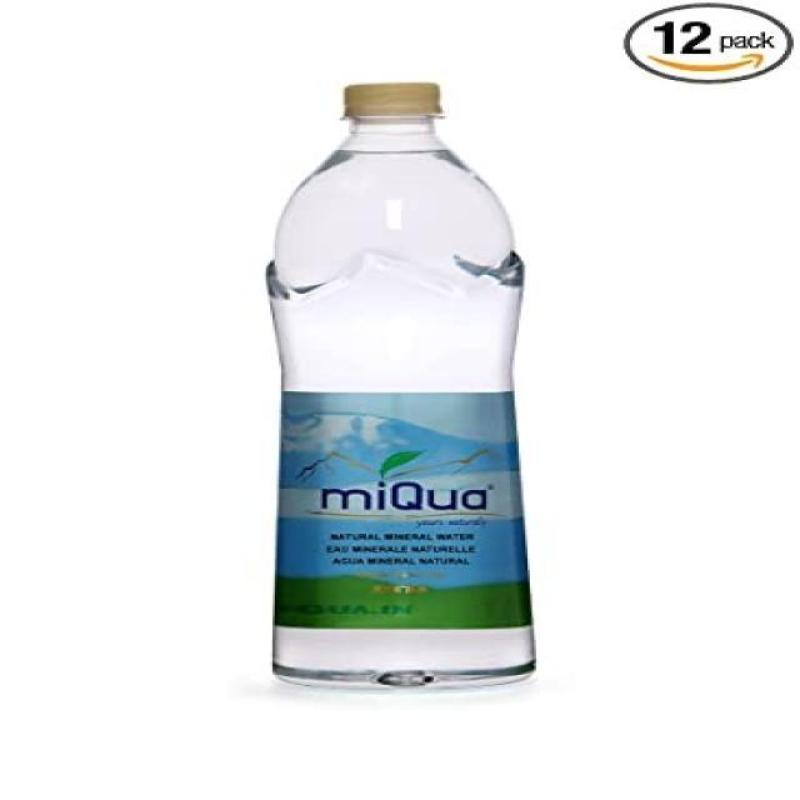botella: (266, 83, 536, 687)
